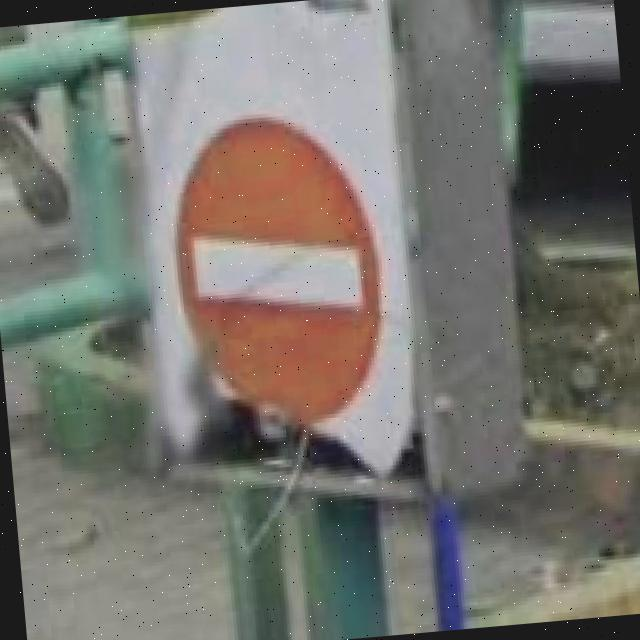Zakaz wjazdu: (164, 112, 390, 442)
